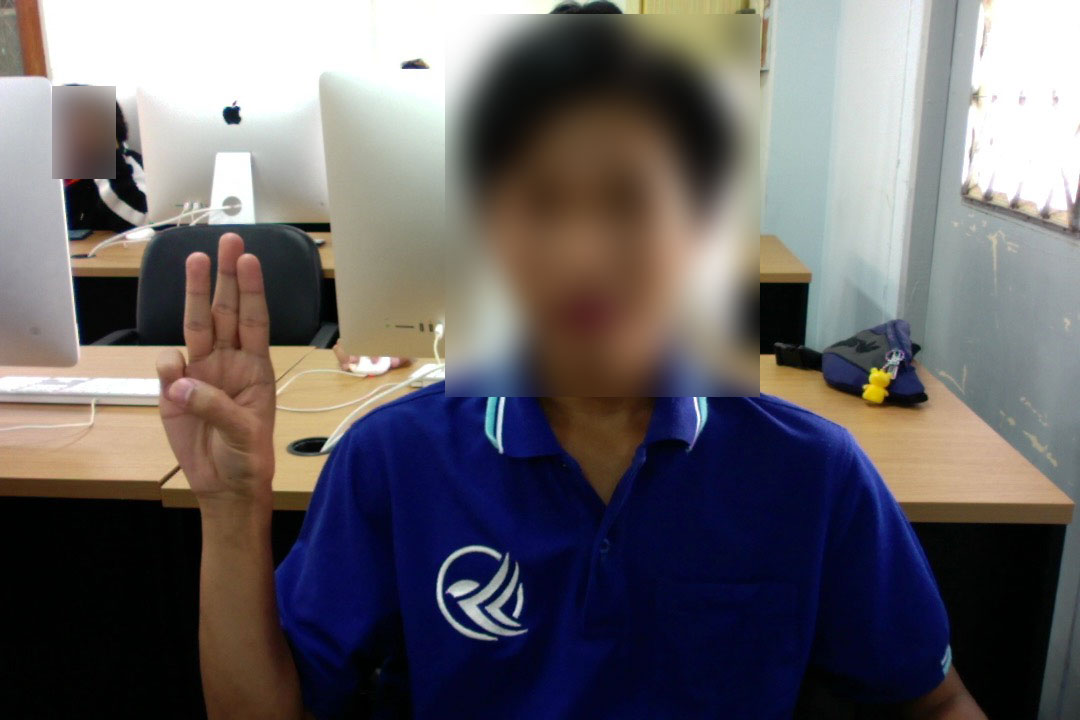wor: (150, 233, 295, 511)
